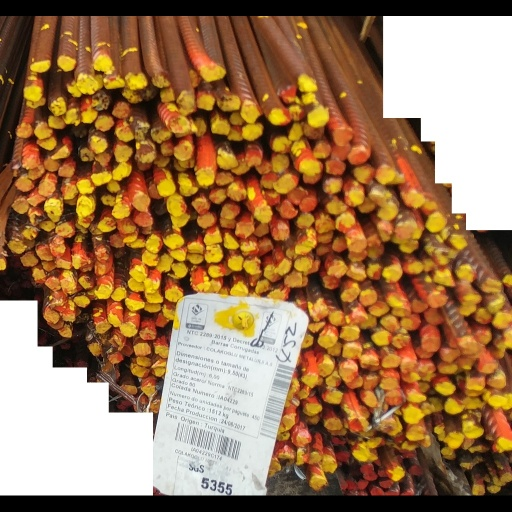dipstick: (273, 168, 299, 189), (135, 134, 157, 156), (294, 237, 319, 256), (76, 61, 97, 83), (339, 368, 358, 392), (176, 170, 197, 191), (308, 96, 329, 117), (270, 125, 291, 146), (241, 89, 259, 113), (336, 211, 356, 232), (241, 114, 263, 133), (125, 59, 148, 77), (191, 193, 211, 213), (232, 145, 248, 170), (344, 182, 364, 202), (173, 132, 192, 153), (269, 97, 290, 116), (277, 196, 298, 215), (404, 415, 423, 436), (381, 265, 402, 284), (287, 182, 308, 201), (462, 432, 483, 451), (341, 348, 363, 366), (375, 159, 397, 177), (327, 260, 347, 279), (426, 210, 445, 230), (394, 219, 414, 238), (194, 162, 215, 180), (218, 146, 239, 164), (270, 146, 288, 167), (300, 151, 321, 169), (322, 172, 343, 190), (400, 318, 421, 336), (203, 53, 226, 69), (334, 119, 353, 138), (292, 439, 311, 458), (361, 379, 380, 398), (340, 285, 359, 304), (347, 263, 366, 282), (455, 265, 474, 284), (466, 380, 485, 399), (112, 156, 132, 174), (378, 198, 398, 216), (169, 193, 186, 214), (317, 336, 338, 353), (322, 397, 343, 414), (444, 407, 465, 424), (78, 95, 97, 113), (112, 91, 131, 109), (89, 128, 108, 146), (70, 250, 89, 268), (133, 207, 151, 226), (145, 232, 163, 251), (236, 219, 255, 237), (326, 152, 345, 170), (340, 329, 359, 347), (347, 308, 366, 326), (353, 159, 371, 178), (392, 334, 410, 353), (425, 311, 444, 329), (494, 314, 512, 333), (169, 106, 189, 123), (351, 458, 371, 475), (349, 427, 369, 444), (371, 335, 391, 352), (404, 187, 424, 204), (121, 76, 142, 92), (218, 84, 239, 100), (34, 112, 52, 130), (95, 105, 113, 123), (114, 137, 132, 155), (157, 173, 175, 191), (196, 83, 214, 101), (254, 202, 272, 220), (328, 313, 346, 331), (447, 443, 465, 461), (57, 42, 76, 59), (44, 195, 63, 212), (112, 199, 131, 216), (125, 295, 144, 312), (294, 256, 313, 273), (315, 213, 334, 230), (321, 468, 338, 487), (360, 290, 377, 309), (361, 356, 378, 375), (327, 194, 346, 211), (14, 170, 34, 186), (246, 140, 262, 160), (283, 273, 303, 289), (103, 62, 124, 77), (163, 232, 184, 247), (427, 293, 448, 308), (94, 41, 112, 58), (62, 99, 80, 116), (165, 287, 183, 304), (155, 254, 172, 272), (243, 257, 261, 274), (197, 209, 215, 226), (240, 239, 258, 256), (299, 64, 317, 81), (271, 222, 289, 239), (296, 210, 314, 227), (318, 367, 335, 385), (380, 318, 398, 335), (434, 271, 452, 288), (76, 194, 95, 210), (207, 263, 226, 279), (230, 282, 249, 298), (211, 111, 230, 127), (308, 308, 327, 324), (309, 490, 328, 506), (360, 400, 379, 416), (439, 353, 459, 368), (36, 243, 53, 260), (221, 199, 238, 216), (228, 180, 245, 197), (23, 73, 41, 89), (15, 114, 33, 130), (152, 118, 170, 134), (77, 174, 95, 190), (301, 380, 319, 396), (449, 232, 467, 248), (435, 390, 457, 403), (348, 142, 367, 157), (370, 304, 389, 319), (30, 46, 50, 60), (117, 216, 137, 230), (170, 210, 190, 224), (214, 166, 234, 180), (406, 398, 426, 412), (66, 69, 82, 86), (116, 116, 133, 132), (98, 214, 115, 230), (142, 250, 159, 266), (205, 247, 222, 263), (257, 152, 274, 168), (313, 135, 330, 151), (301, 192, 317, 209), (407, 436, 424, 452), (385, 399, 402, 415), (474, 334, 491, 350), (476, 311, 492, 328), (153, 60, 171, 75), (56, 219, 74, 234), (20, 251, 38, 266), (421, 342, 439, 357), (483, 281, 501, 296), (403, 260, 422, 274), (92, 166, 112, 179), (437, 368, 457, 381), (11, 194, 27, 210), (61, 179, 77, 195), (121, 326, 137, 342), (154, 316, 170, 332), (264, 266, 280, 282), (50, 88, 65, 105), (21, 147, 38, 162), (38, 177, 55, 192), (50, 241, 65, 258), (170, 263, 187, 278), (108, 313, 123, 330), (223, 230, 238, 247), (259, 169, 276, 184), (289, 94, 304, 111), (275, 258, 290, 275), (348, 236, 365, 251), (321, 276, 338, 291), (400, 364, 417, 379), (94, 146, 112, 160), (52, 138, 70, 152), (127, 279, 145, 293), (130, 372, 149, 385), (44, 311, 59, 327), (109, 230, 124, 246), (325, 348, 341, 363), (303, 413, 323, 425), (487, 404, 507, 416), (48, 106, 65, 120), (205, 229, 222, 243), (209, 185, 226, 199), (228, 115, 242, 132), (382, 360, 399, 374), (367, 264, 381, 281), (38, 130, 56, 143), (27, 190, 45, 203), (324, 428, 342, 441), (459, 306, 477, 319), (392, 310, 411, 322), (43, 150, 58, 165), (154, 350, 169, 365), (168, 248, 183, 263), (21, 224, 37, 238), (50, 302, 66, 316), (78, 276, 94, 290), (107, 358, 123, 372), (130, 265, 146, 279), (388, 481, 404, 495), (44, 279, 61, 292), (186, 251, 203, 264), (457, 364, 474, 377), (412, 303, 429, 316), (145, 293, 163, 305), (328, 435, 346, 447), (80, 139, 94, 154), (41, 258, 56, 272), (74, 297, 89, 311), (95, 287, 110, 301), (134, 348, 149, 362), (369, 446, 384, 460), (362, 318, 377, 332), (140, 332, 156, 345), (188, 240, 204, 253), (333, 235, 346, 251), (496, 450, 512, 463), (57, 159, 74, 171), (8, 240, 25, 252), (380, 386, 398, 397), (228, 256, 242, 270), (256, 281, 270, 295), (306, 463, 320, 477), (61, 313, 76, 326), (87, 348, 102, 361), (404, 380, 420, 392), (462, 297, 481, 307), (112, 289, 126, 302), (209, 281, 222, 295), (317, 229, 331, 242), (160, 79, 175, 91), (100, 190, 115, 202), (39, 217, 54, 229), (94, 248, 109, 260), (229, 103, 244, 115), (95, 326, 111, 337), (472, 499, 485, 512), (141, 392, 155, 404), (161, 134, 173, 148), (305, 426, 320, 437), (29, 162, 42, 174), (32, 268, 45, 280), (378, 491, 391, 503), (107, 176, 121, 187), (137, 363, 151, 374), (152, 372, 166, 383), (360, 476, 374, 487), (219, 216, 236, 225), (58, 332, 71, 343), (410, 479, 423, 490), (145, 305, 160, 314), (502, 485, 512, 498), (434, 435, 445, 446), (440, 460, 453, 468), (358, 494, 369, 503)
